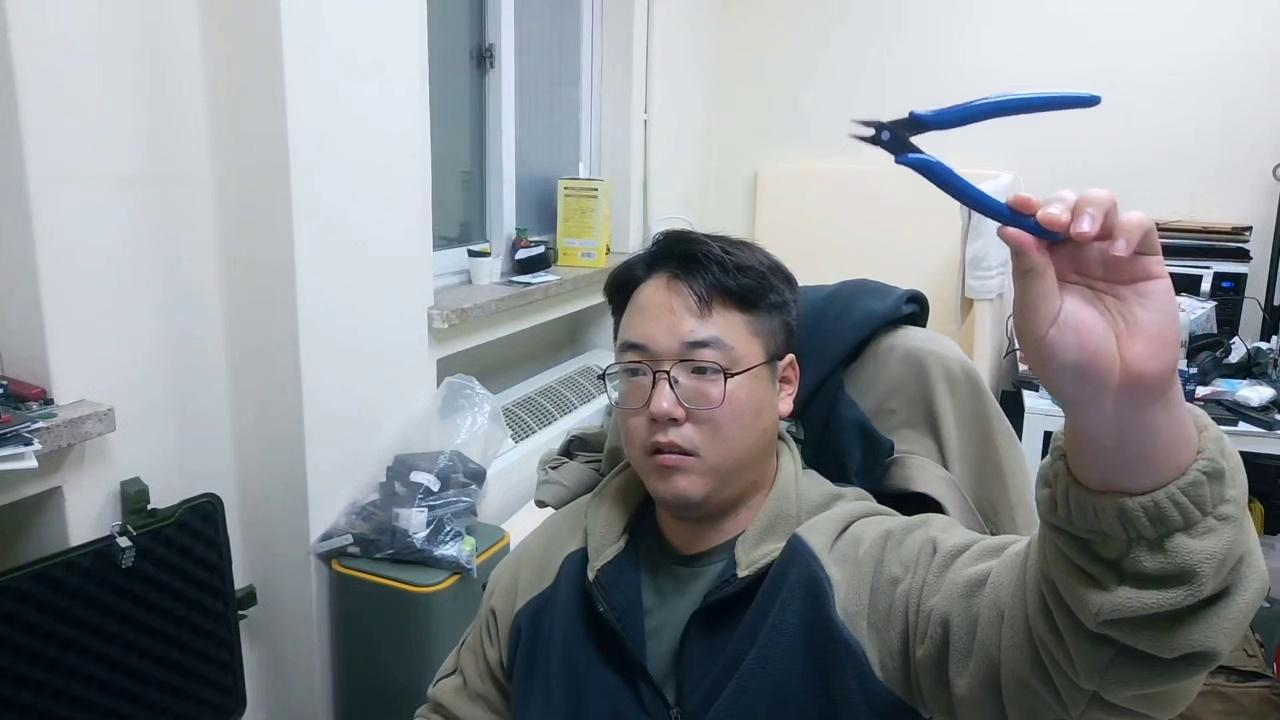blue_pliers: (849, 89, 1105, 246)
